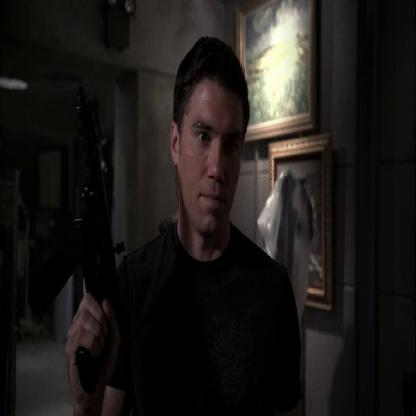Guns: (29, 70, 127, 396)
